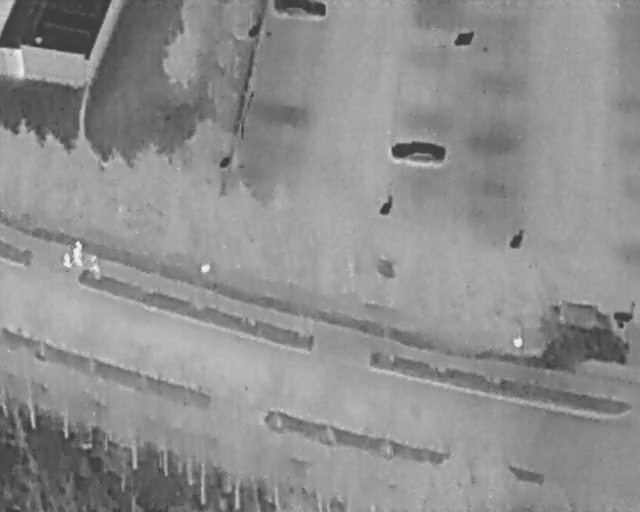Car: (537, 302, 630, 364), (392, 142, 446, 165)
Person: (62, 254, 72, 271), (72, 249, 82, 266), (74, 240, 84, 257)
